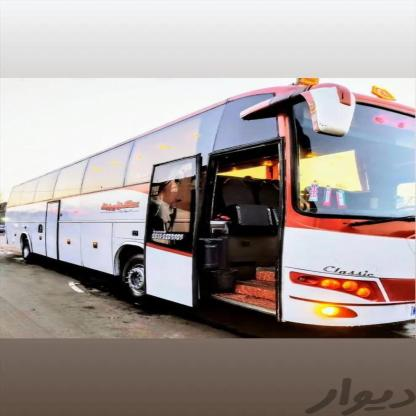Bus: (0, 86, 416, 336)
